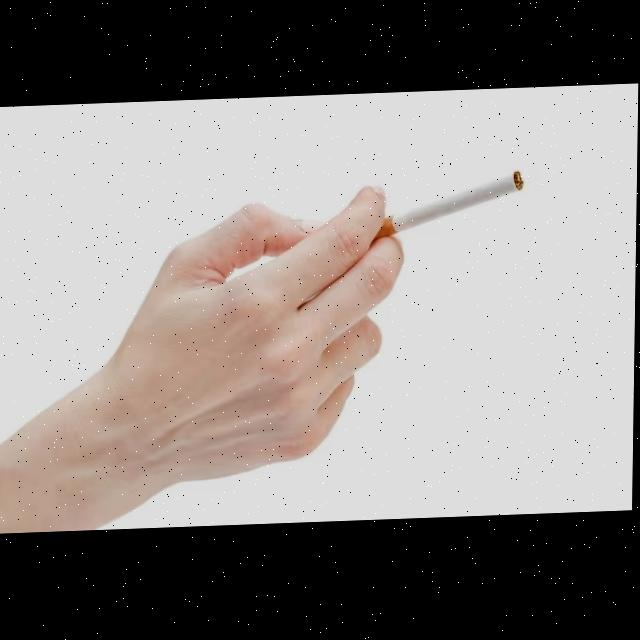cigarette: (374, 174, 525, 244)
